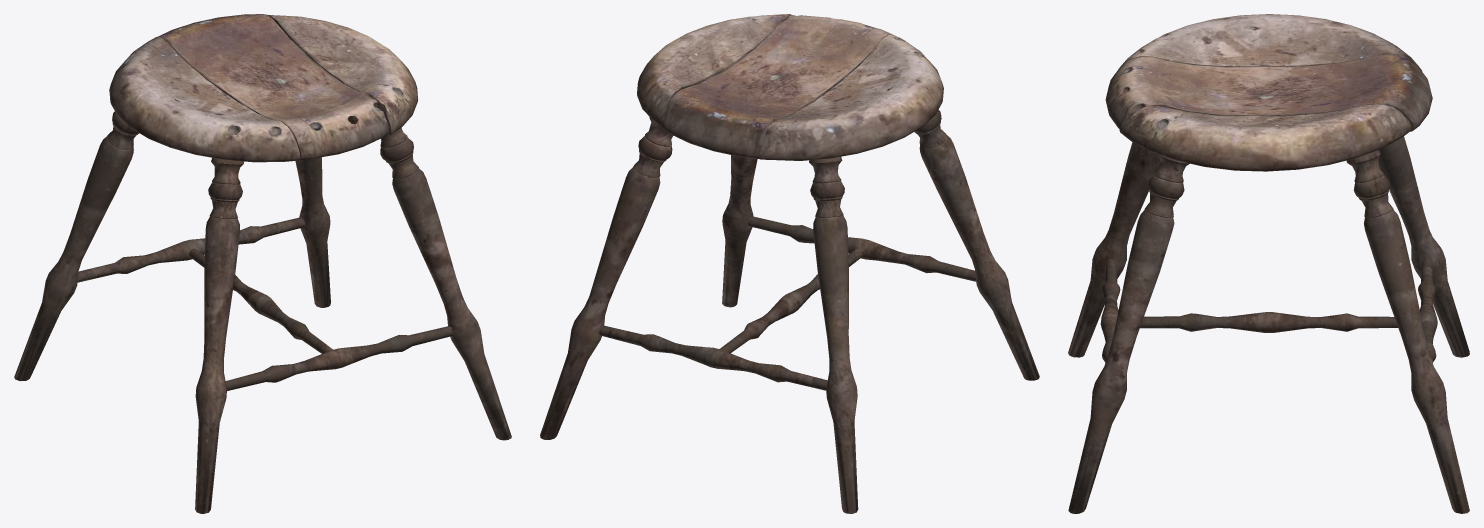
File: wooden_stool_01.glb
3 renders of one model, left to right at view 1: azimuth 30°, elevation 25°; view 2: azimuth 150°, elevation 25°; view 3: azimuth 270°, elevation 25°, orthographic. The views are drawn at different scales.
Visible parts, largest first — view 1: wooden_stool_01; view 2: wooden_stool_01; view 3: wooden_stool_01.
Boxes of the visible parts, bbox=[...] form: wooden_stool_01: bbox=[14, 14, 511, 513]; wooden_stool_01: bbox=[540, 14, 1039, 513]; wooden_stool_01: bbox=[1068, 14, 1469, 513].
Bounding box in the file's own units: 0.4246 × 0.4365 × 0.4421.
Materials: 1 (1 with a texture image).
